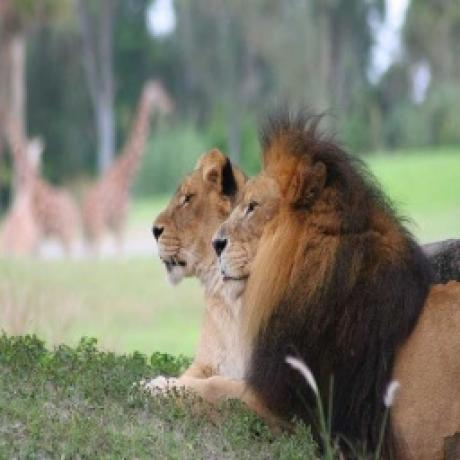Lion: (214, 109, 460, 460), (150, 128, 255, 415)
